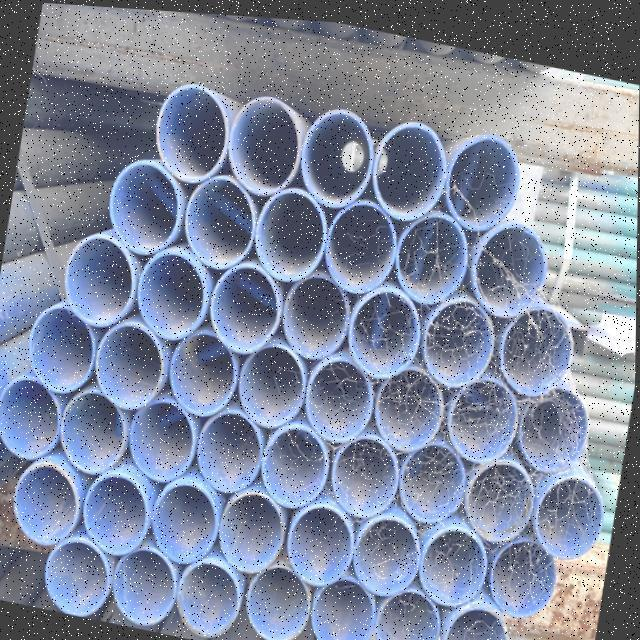pipe: (151, 79, 240, 189), (224, 87, 311, 198), (438, 128, 524, 229), (181, 169, 258, 274), (60, 229, 138, 331), (106, 156, 181, 262), (370, 114, 446, 218), (298, 103, 374, 207), (252, 182, 327, 285), (475, 214, 553, 312), (418, 288, 497, 384), (24, 299, 99, 400), (130, 248, 208, 345), (205, 258, 282, 356), (92, 315, 166, 416), (347, 278, 424, 375), (396, 205, 472, 301), (327, 189, 399, 290), (498, 297, 573, 391), (444, 368, 518, 461), (54, 385, 126, 480), (167, 326, 239, 419), (279, 270, 351, 361), (372, 360, 444, 451), (235, 337, 307, 428), (255, 420, 329, 508), (125, 395, 198, 484), (150, 478, 221, 569), (536, 461, 606, 553), (517, 379, 589, 467), (193, 405, 265, 493), (216, 486, 288, 574), (304, 353, 375, 442), (286, 498, 357, 587), (462, 453, 537, 537), (398, 437, 471, 522), (331, 428, 400, 517), (352, 512, 423, 596), (82, 471, 152, 556), (420, 519, 492, 601), (490, 530, 561, 613), (12, 461, 80, 545), (175, 558, 245, 639), (110, 545, 177, 627), (246, 561, 315, 640), (43, 537, 111, 616), (0, 378, 62, 464), (311, 573, 378, 640), (369, 583, 443, 640), (442, 599, 510, 640)
